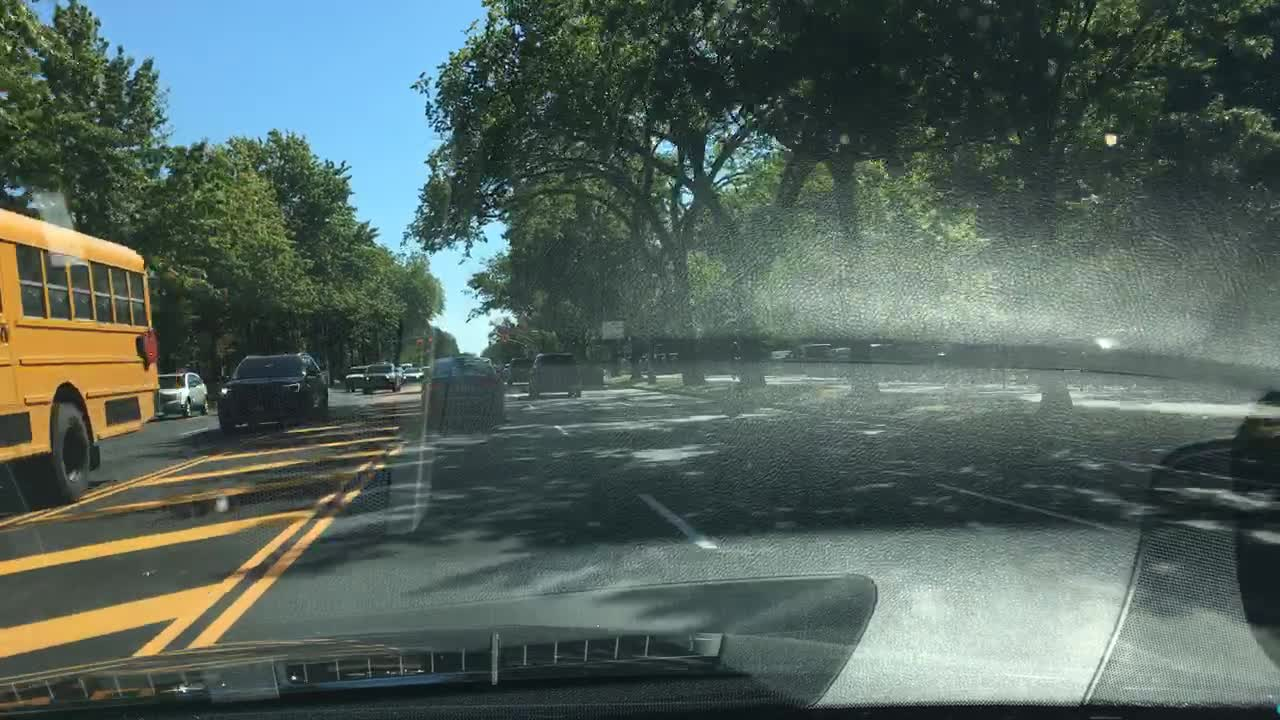bus: (0, 206, 160, 506)
car: (216, 347, 330, 440), (420, 353, 508, 427), (525, 349, 580, 401), (153, 371, 207, 418), (359, 361, 401, 396), (506, 354, 533, 388), (342, 361, 364, 390), (1090, 338, 1126, 354), (405, 371, 422, 385), (398, 361, 415, 371)
traffic sign: (601, 319, 623, 343)
